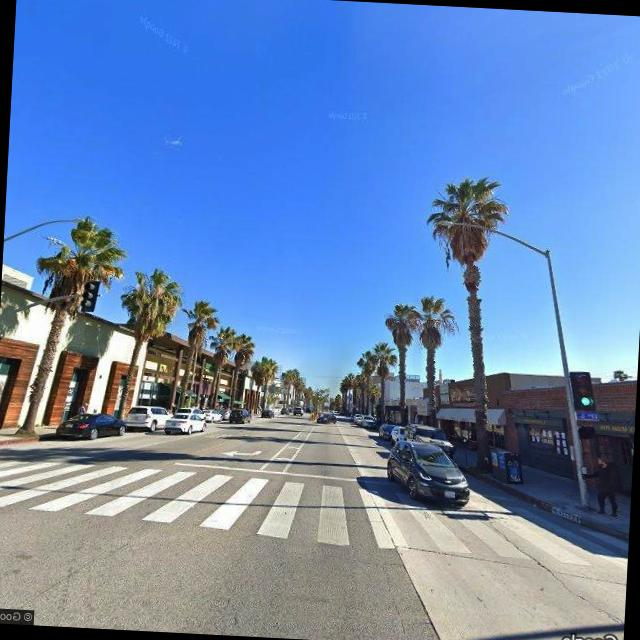pothole: (389, 595, 413, 640)
